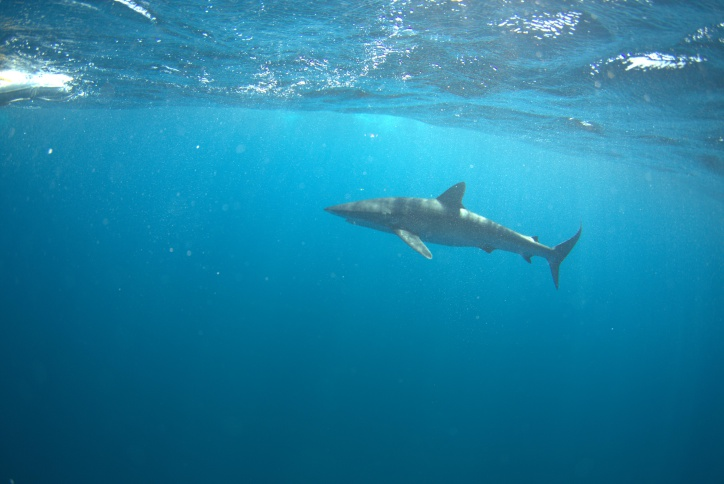Sedoso: (314, 172, 586, 293)
